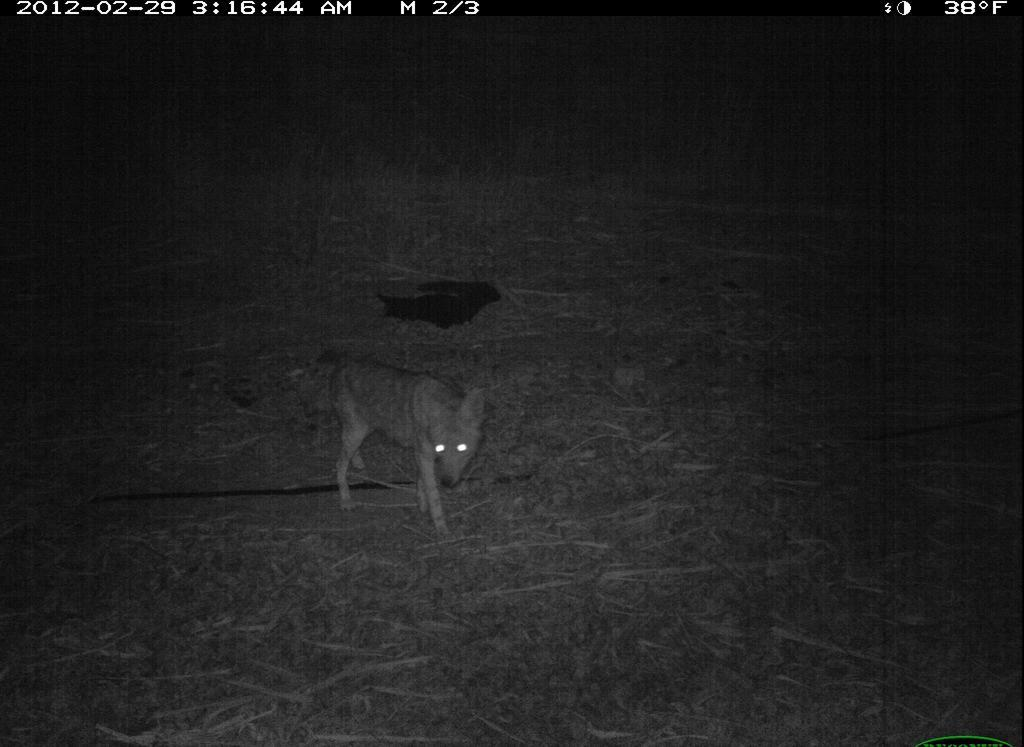coyote: (306, 342, 506, 551)
